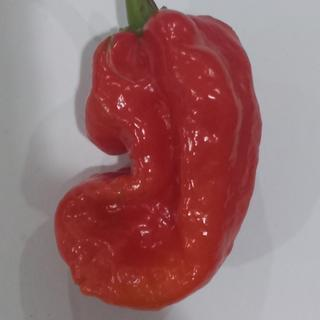Grade-A: (52, 8, 266, 310)
